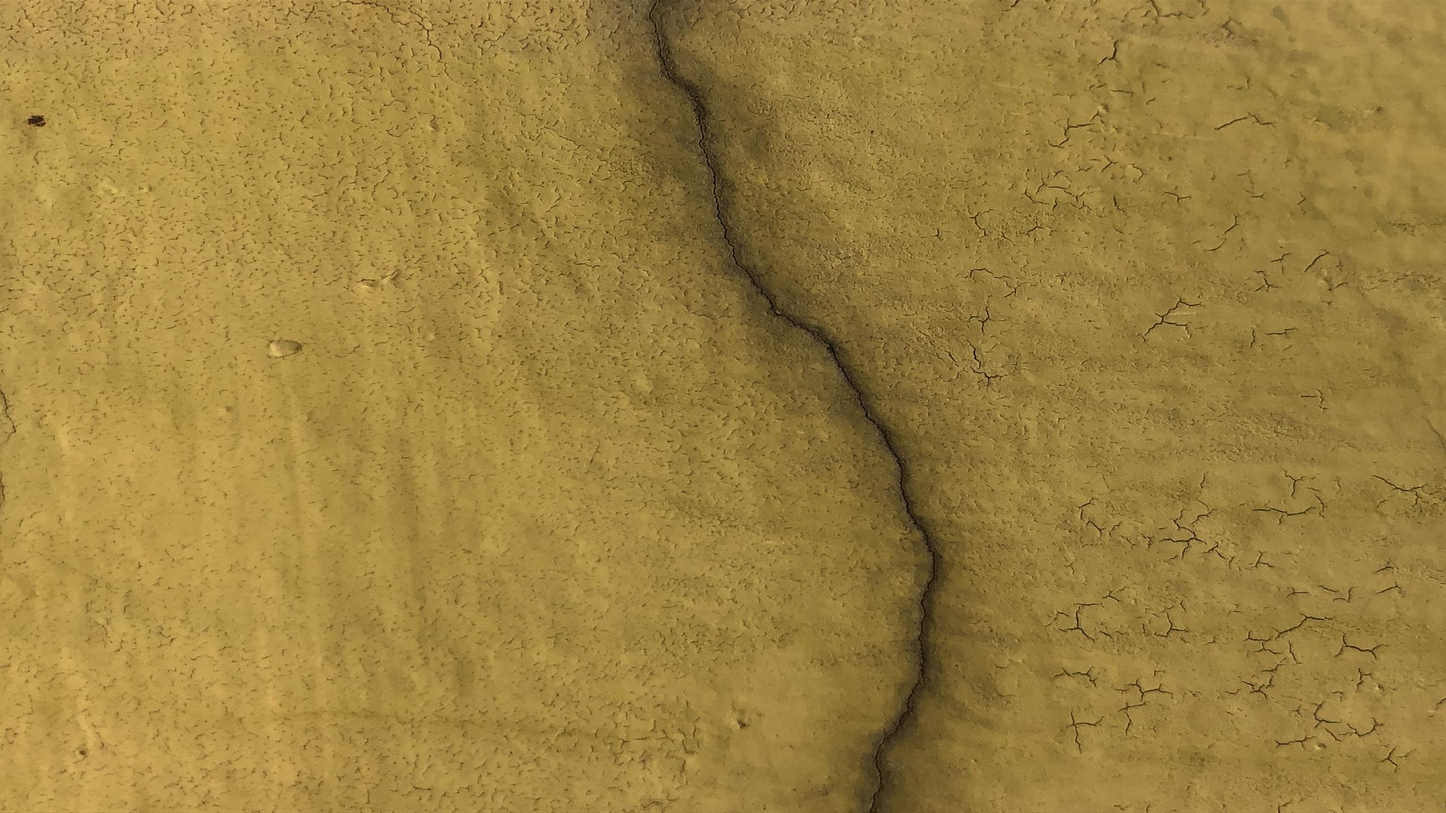crack: (647, 5, 943, 812)
